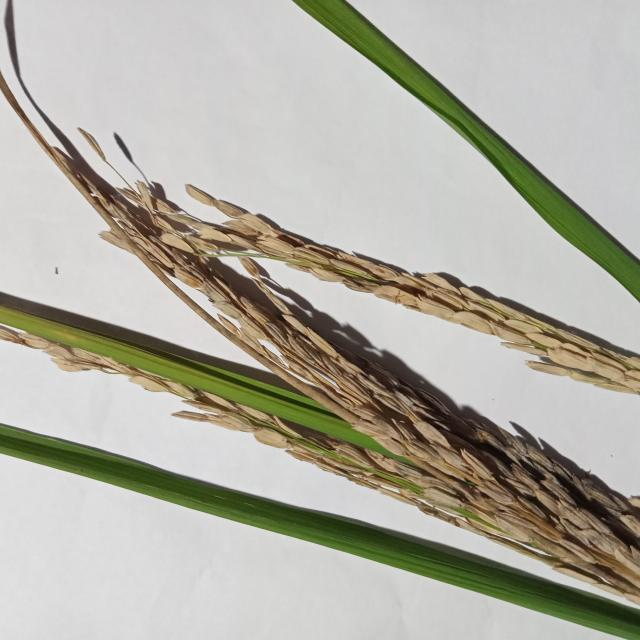Neck_Blast: (0, 92, 639, 595), (183, 208, 640, 402)
